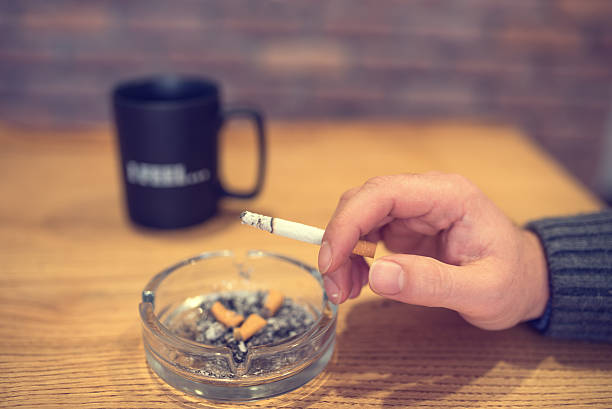cigarette: (238, 211, 382, 259), (212, 291, 247, 331), (231, 311, 267, 345), (259, 289, 284, 319)
